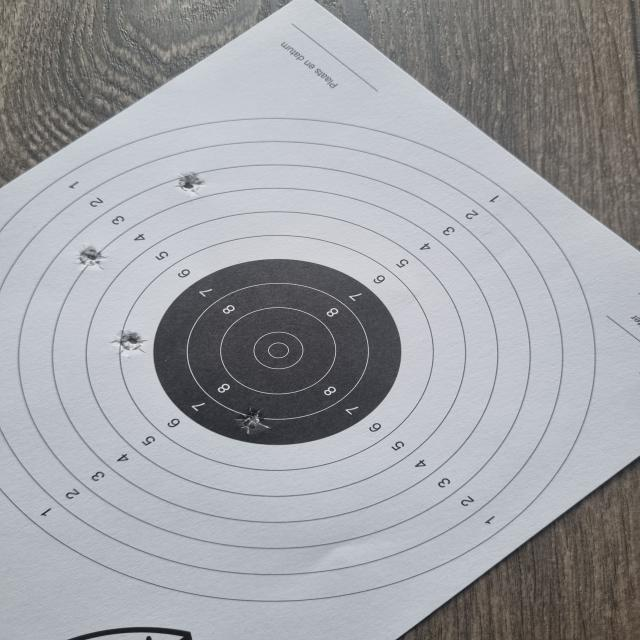3: (174, 171, 206, 196)
4: (73, 246, 107, 270)
6: (115, 332, 146, 353)
8: (235, 413, 267, 434)
Target: (0, 115, 603, 605)
black_contour: (158, 258, 404, 445)
